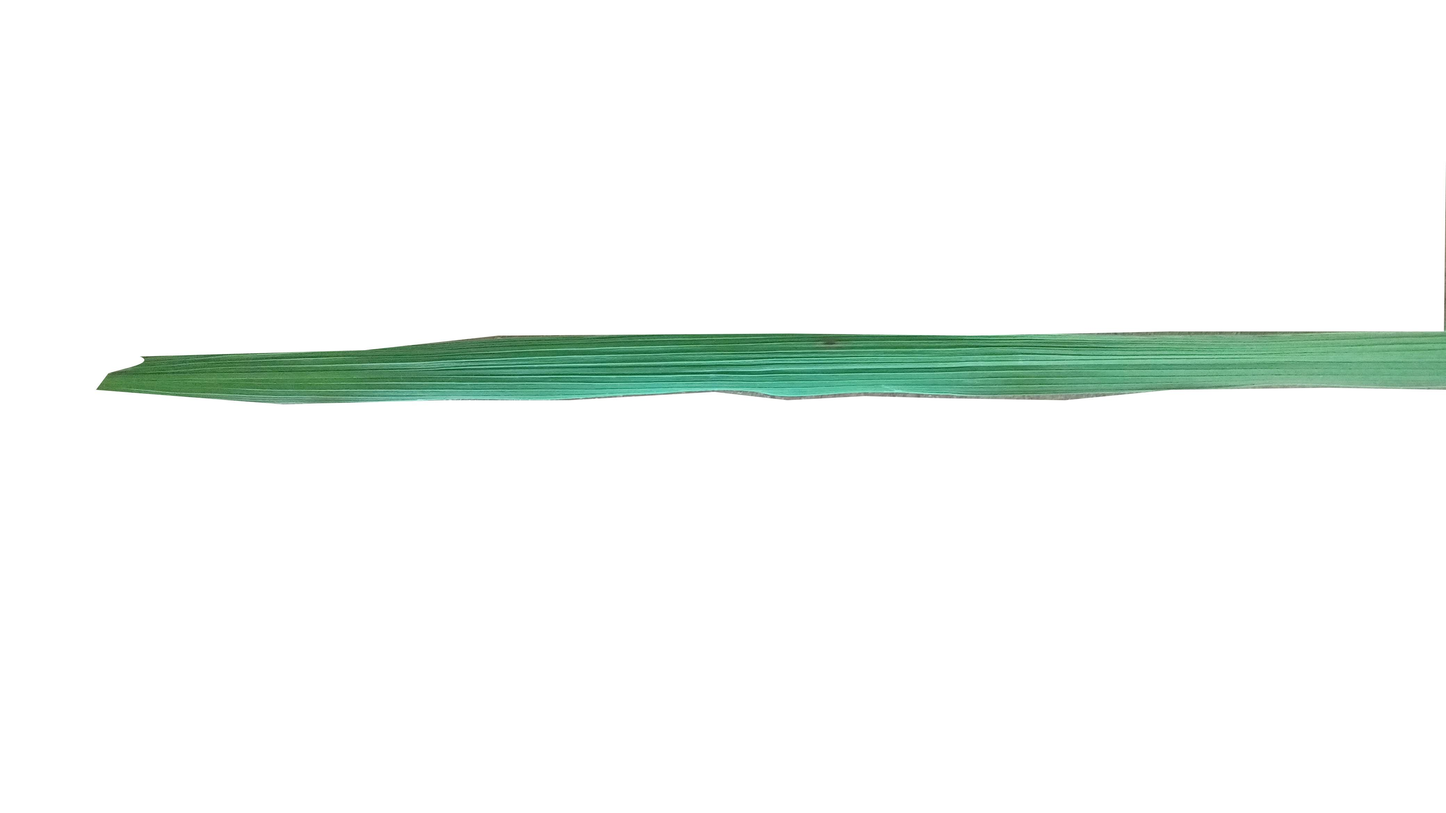Brown spot: (813, 336, 846, 358)
